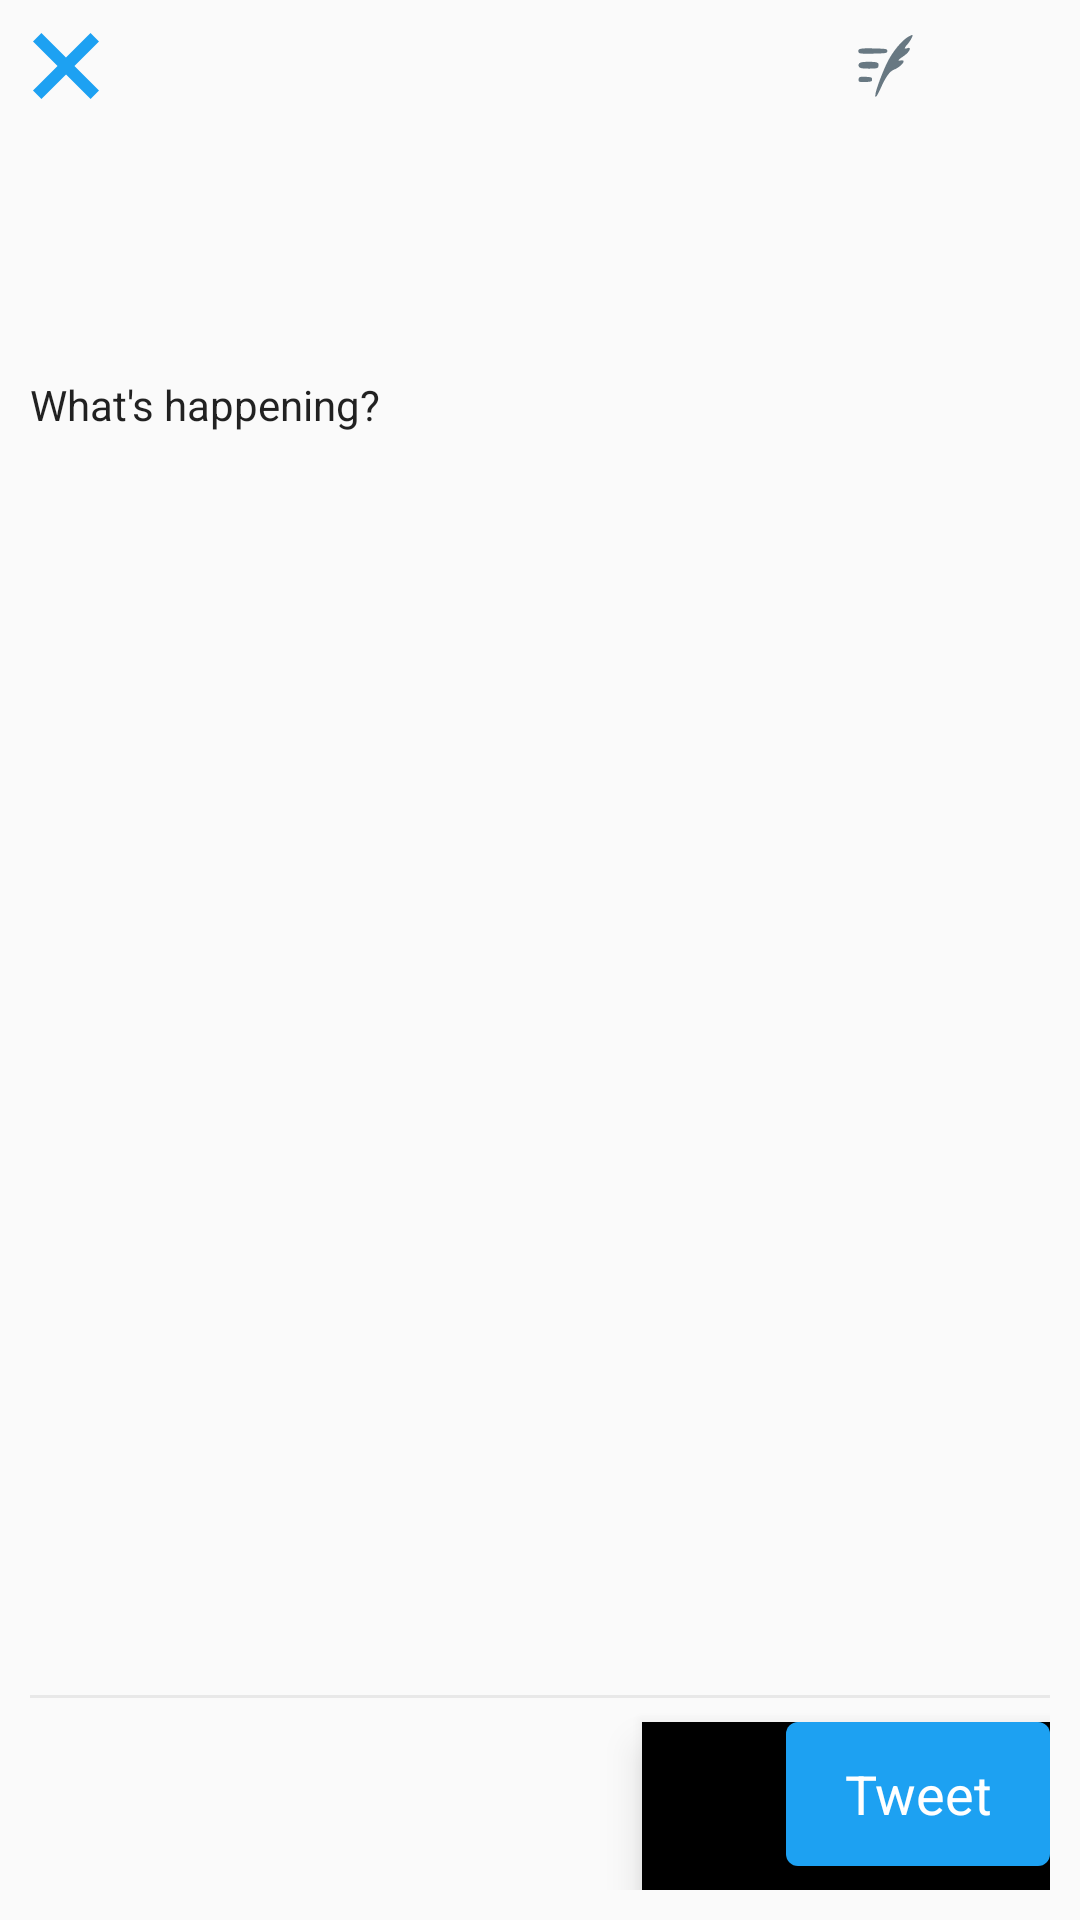

Where to tap for icons on this 1080 × 1920 app screen, as [x,y]:
cancel action: [66,66]
draft: [885,66]
